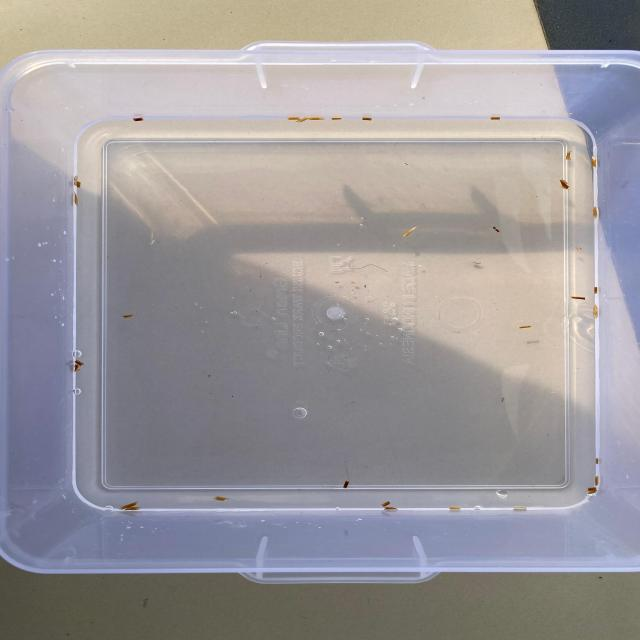Wereng: (116, 498, 144, 512), (212, 491, 236, 504), (338, 475, 356, 490), (402, 225, 420, 239), (70, 192, 84, 207), (307, 113, 325, 124), (590, 205, 602, 221), (591, 306, 603, 322), (489, 224, 507, 234), (588, 153, 600, 168), (568, 294, 588, 303), (565, 148, 576, 164), (559, 178, 572, 191), (470, 258, 485, 268), (382, 504, 400, 512), (593, 474, 604, 487), (74, 358, 88, 368), (510, 505, 529, 512), (360, 113, 373, 123), (590, 283, 600, 296), (448, 504, 464, 512), (593, 456, 604, 467), (379, 500, 394, 508), (132, 116, 148, 123), (586, 487, 600, 495), (286, 114, 300, 122), (329, 114, 343, 122), (488, 114, 502, 122), (296, 114, 307, 124), (122, 313, 140, 319), (72, 174, 79, 188), (516, 324, 532, 330), (72, 363, 82, 372), (76, 181, 84, 189)
